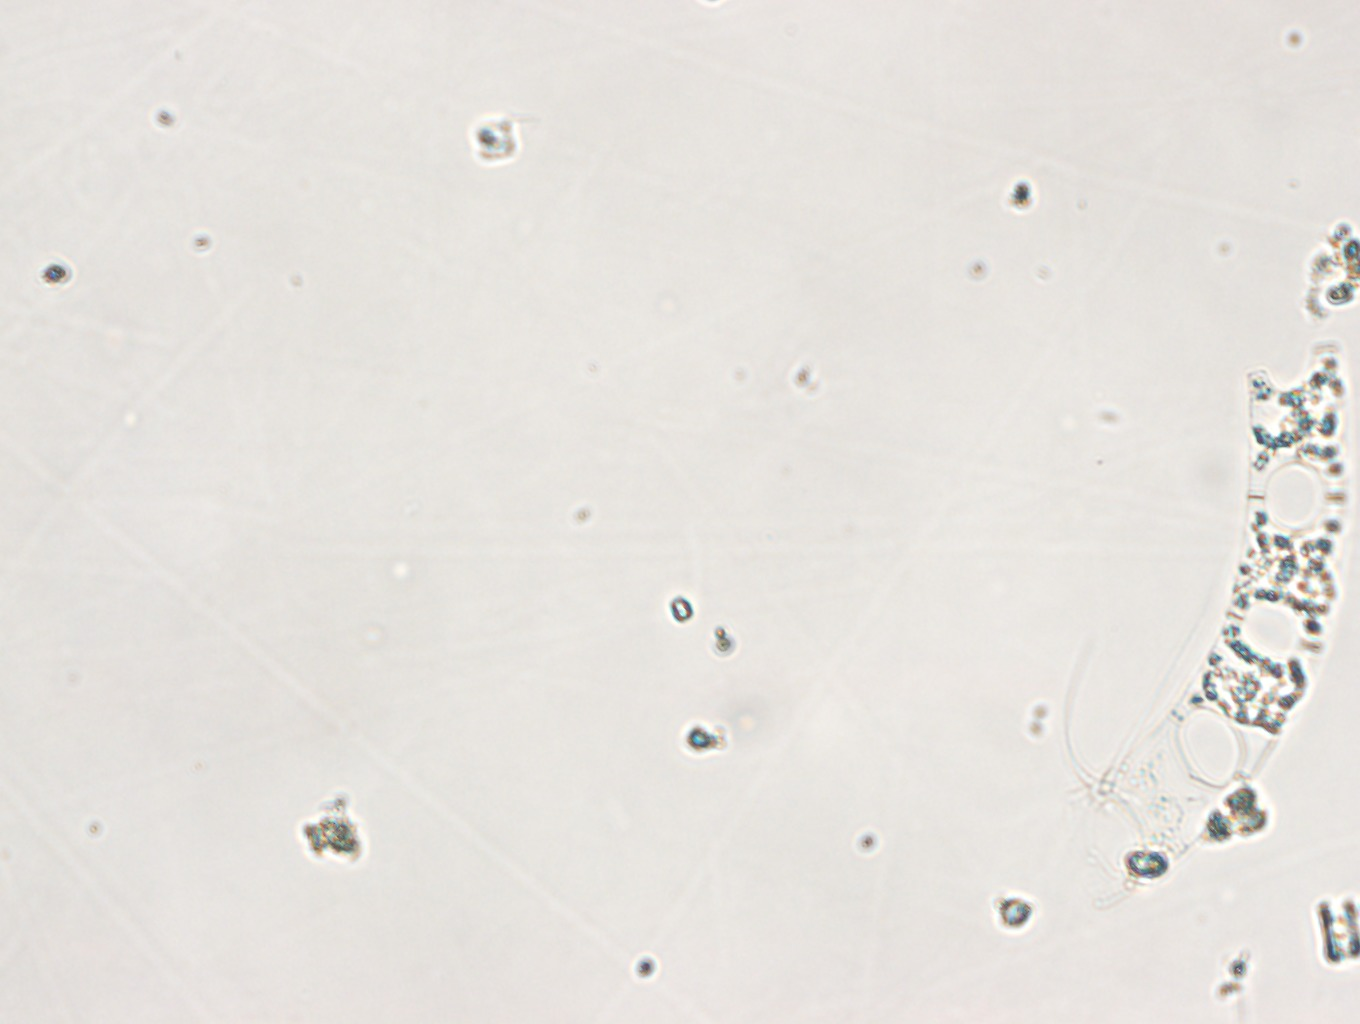eucampia: (1116, 353, 1360, 883)
